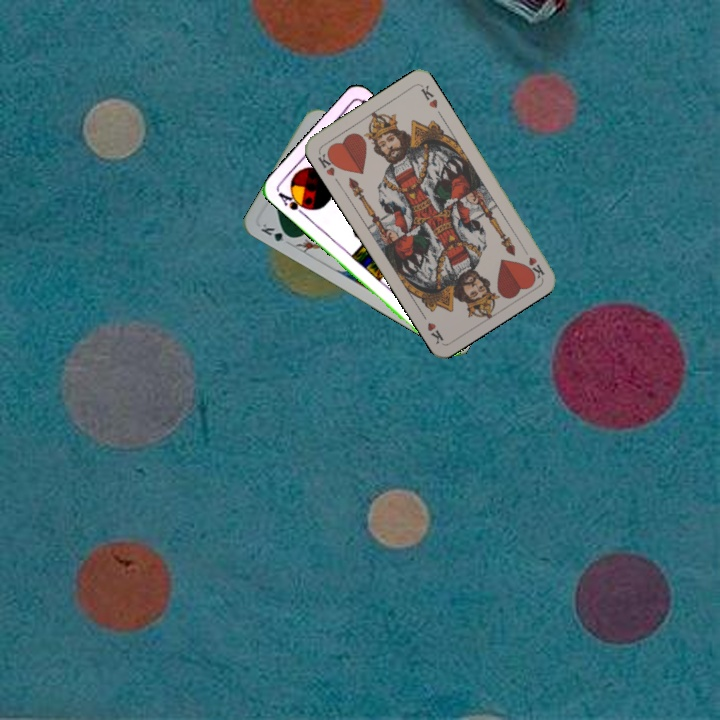GK: (256, 219, 295, 244)
HK: (519, 242, 547, 281), (314, 147, 341, 179)
SA: (274, 188, 312, 219)
